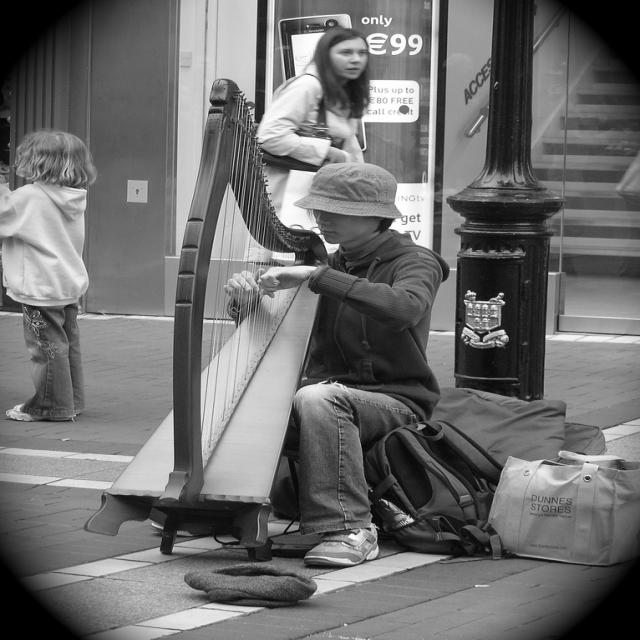harp: (102, 79, 330, 508)
